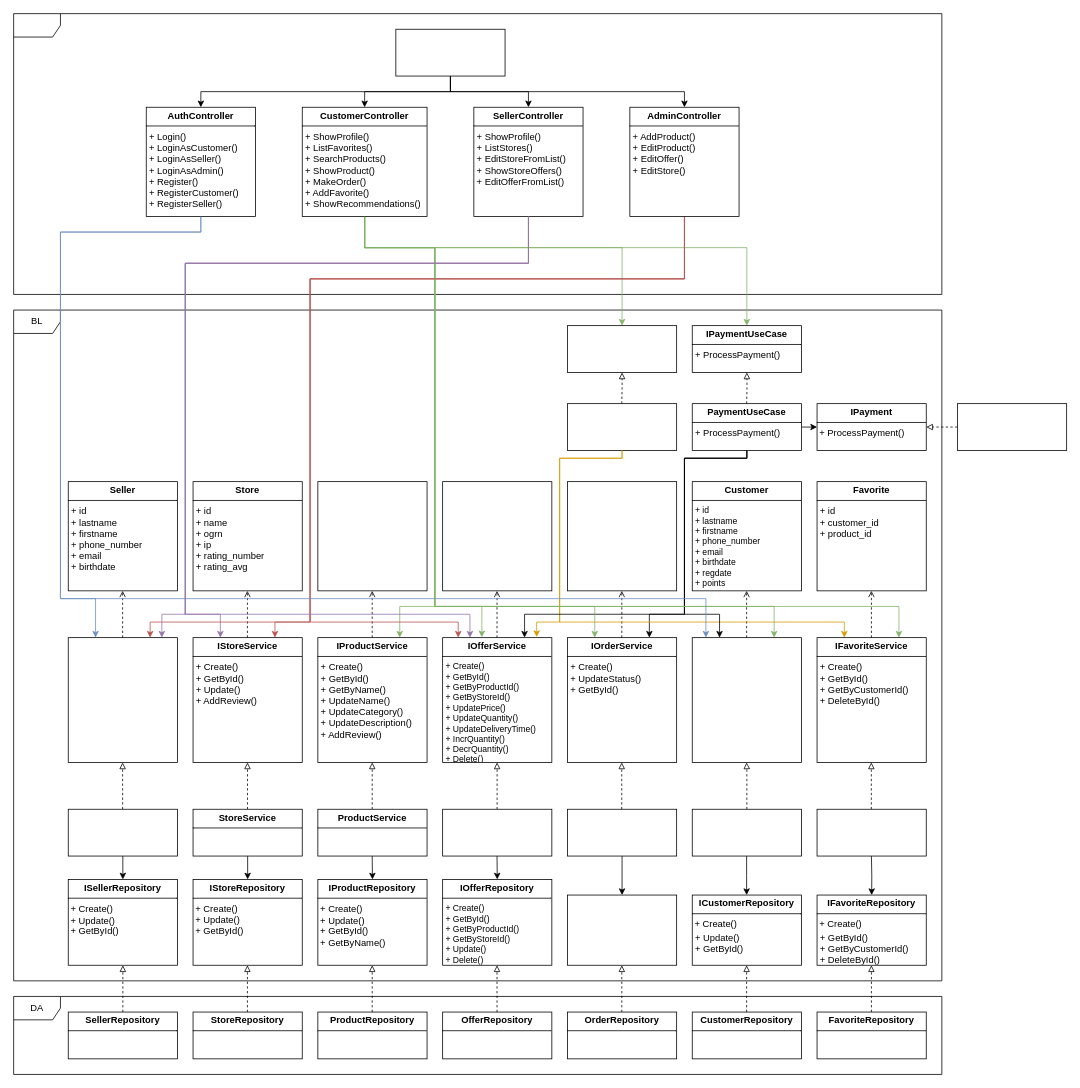
Some shapes in this 1080 by 1088 pixel diagram are drawn without their labels. Each missing label, with the box of its shape:
Application + Run(): (395, 28, 505, 76)
CustomerService: (691, 808, 801, 856)
FavoriteService: (816, 808, 926, 856)
ICustomerService + Create() + GetById() + UpdateInfo() + UpdatePoints(): (691, 637, 801, 762)
IOrderRepository + Create() + Update() + GetById(): (567, 894, 677, 965)
IRecSysUseCase + Recommend(): (567, 325, 677, 372)
ISellerService + Create() + GetById() + Update(): (67, 637, 177, 762)
Offer + id + product_id + store_id + price + quantity + delivery_time: (442, 481, 552, 591)
OfferService: (442, 808, 552, 856)
Order + id + customer_id + offer_id + status: (567, 481, 677, 591)
OrderService: (567, 808, 677, 856)
Payment: (957, 403, 1067, 450)
Product + id + name + category + description + rating_number + rating_avg: (317, 481, 427, 591)
RecSysUseCase + Recommend(): (567, 403, 677, 450)
SellerService: (67, 808, 177, 856)
UI: (13, 13, 942, 294)
